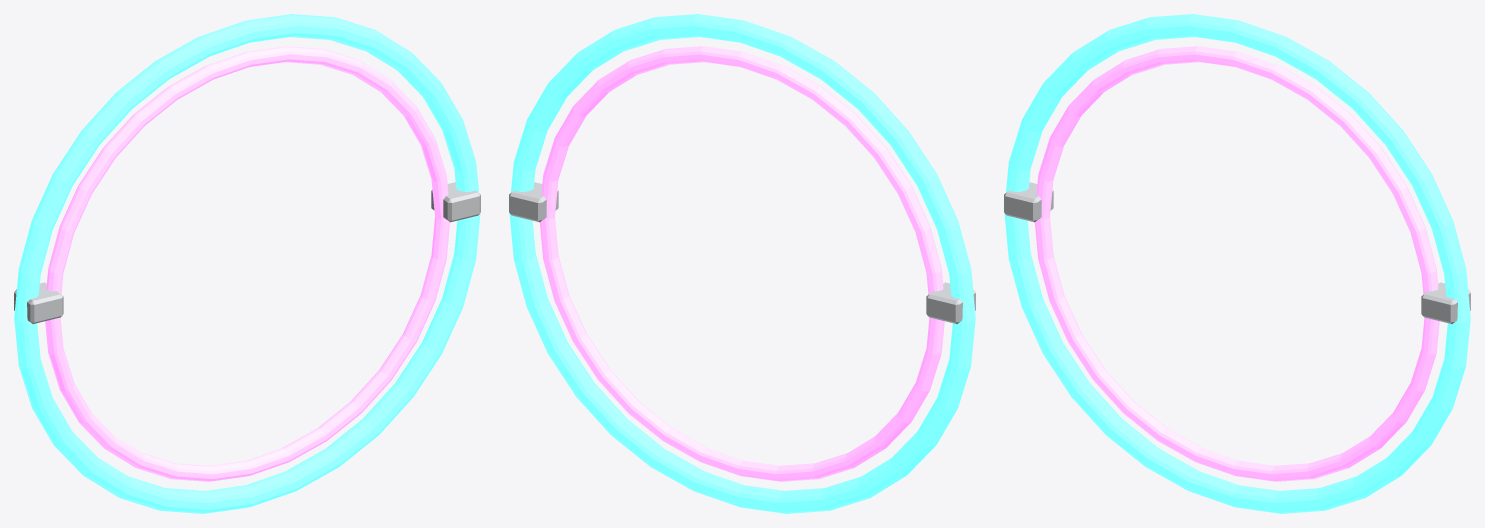
3 renders of one model, left to right at view 1: azimuth 30°, elevation 25°; view 2: azimuth 150°, elevation 25°; view 3: azimuth 330°, elevation 25°, orthographic.
Parts seen in each view (by area): view 1: Arch; view 2: Arch; view 3: Arch.
Boxes of the visible parts, x1,y1,x2,y2 form: Arch: [14, 14, 480, 513]; Arch: [509, 14, 975, 513]; Arch: [1004, 14, 1470, 513].
Bounding box in the file's own units: 2.09 × 2.09 × 0.15.
